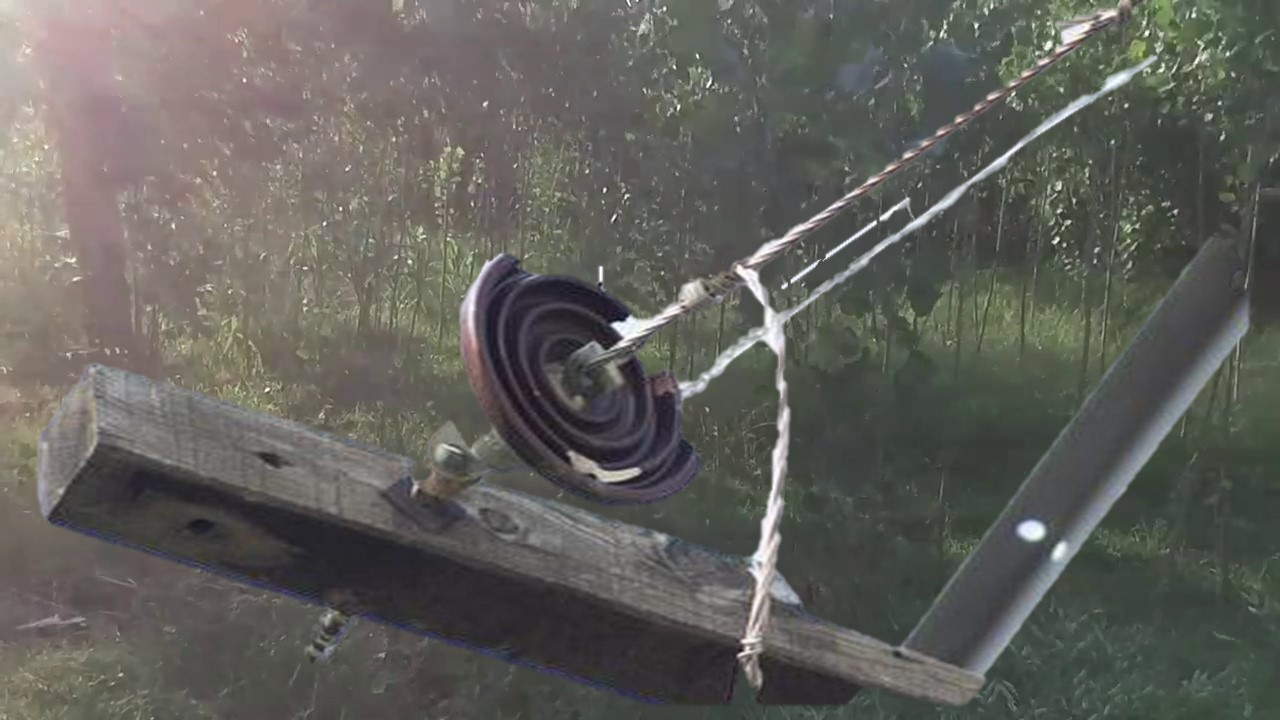defect_disc: (454, 242, 706, 511)
